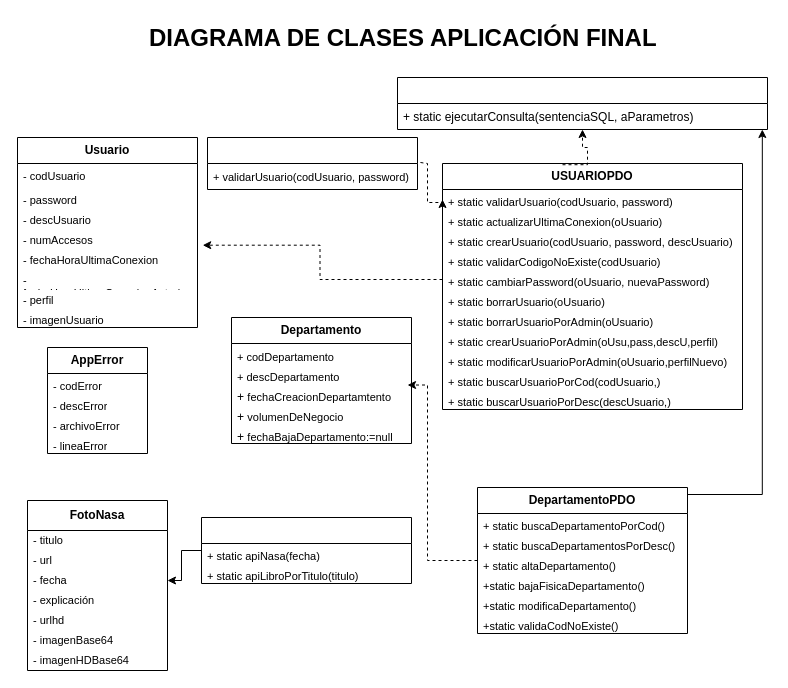
This 788x688 diagram has some shape labels left out. Each missing label, with the box of its shape:
DBPDO: (396, 76, 768, 130)
REST: (200, 516, 412, 584)
UsuarioDB: (206, 136, 418, 190)
